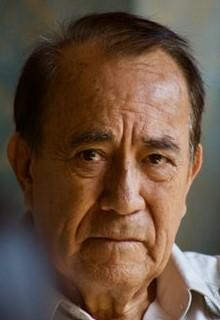Wrinkles: (125, 100, 173, 115), (118, 118, 125, 148), (109, 107, 142, 112), (133, 127, 134, 143)
